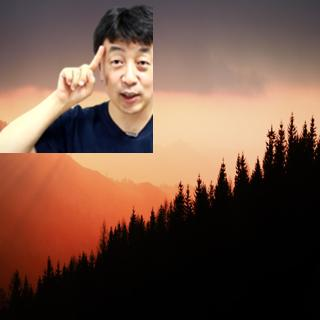IRRITATED: (56, 43, 109, 107)
